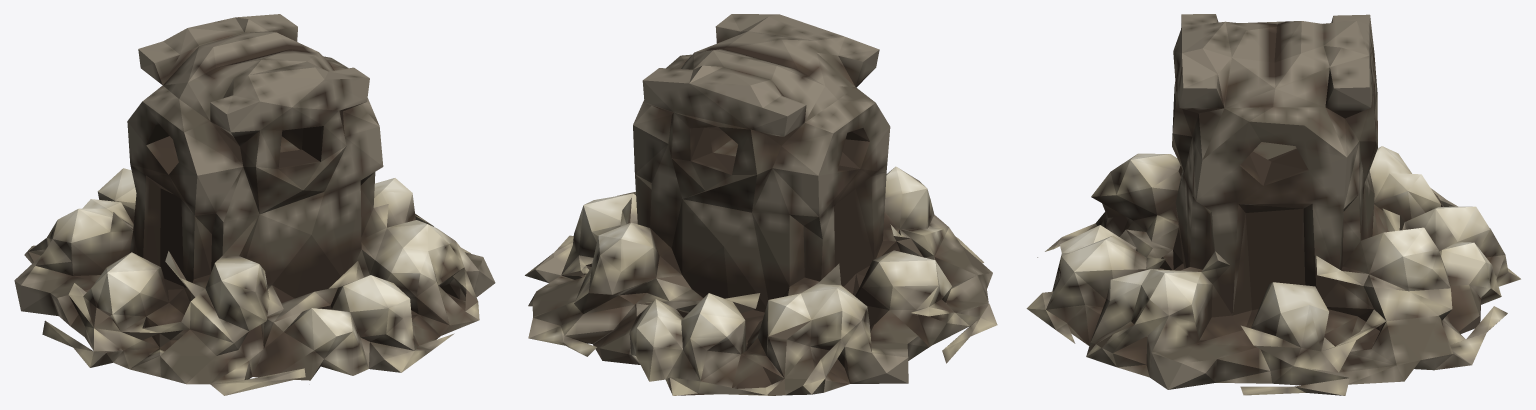
The model's file is SM_MeshyBonePile.fbx.
The picture shows the model from 3 angles, left to right: view 1: azimuth 30°, elevation 25°; view 2: azimuth 150°, elevation 25°; view 3: azimuth 270°, elevation 25°; orthographic projection. The views are drawn at different scales.
Visible parts, largest first — view 1: SM_MeshyBonePile; view 2: SM_MeshyBonePile; view 3: SM_MeshyBonePile.
Boxes of the visible parts, x1,y1,x2,y2 form: SM_MeshyBonePile: [14, 14, 495, 395]; SM_MeshyBonePile: [525, 14, 997, 395]; SM_MeshyBonePile: [1026, 14, 1520, 395].
Bounding box in the file's own units: 1.01 × 0.601 × 1.02.
1 material, 1 textured.
